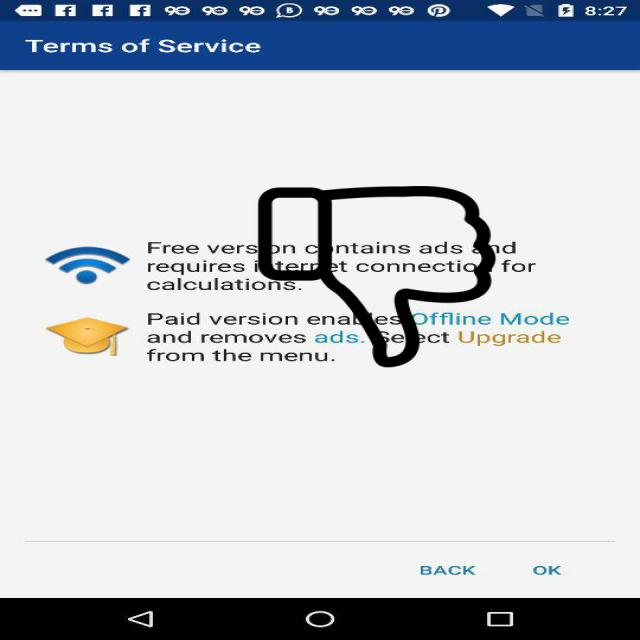obstruction: (255, 186, 499, 367)
